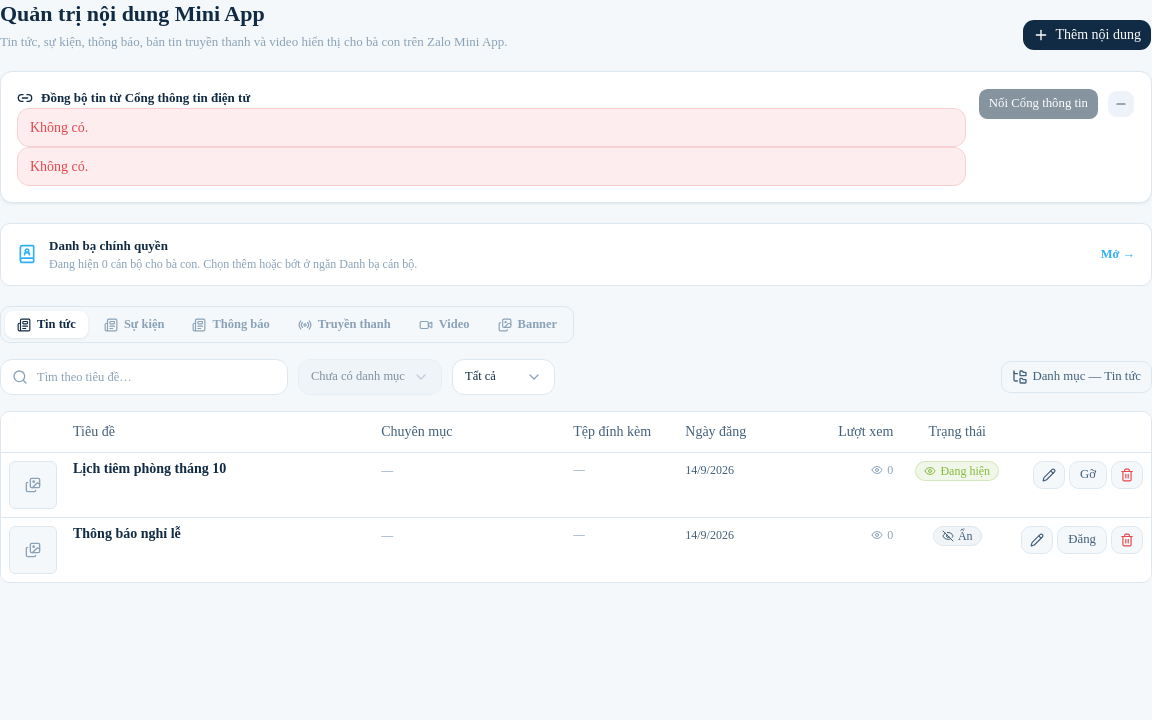
Test: Danh mục — <loại>: the prototype's `CategoryManagerDialog`, one tree per type › ~44rem wide, a plain title and ONE sentence, the import box, the add row, then the list
Step 1. Click the button "Danh mục — Tin tức" → (1077, 377), box [1001,361,1151,393]
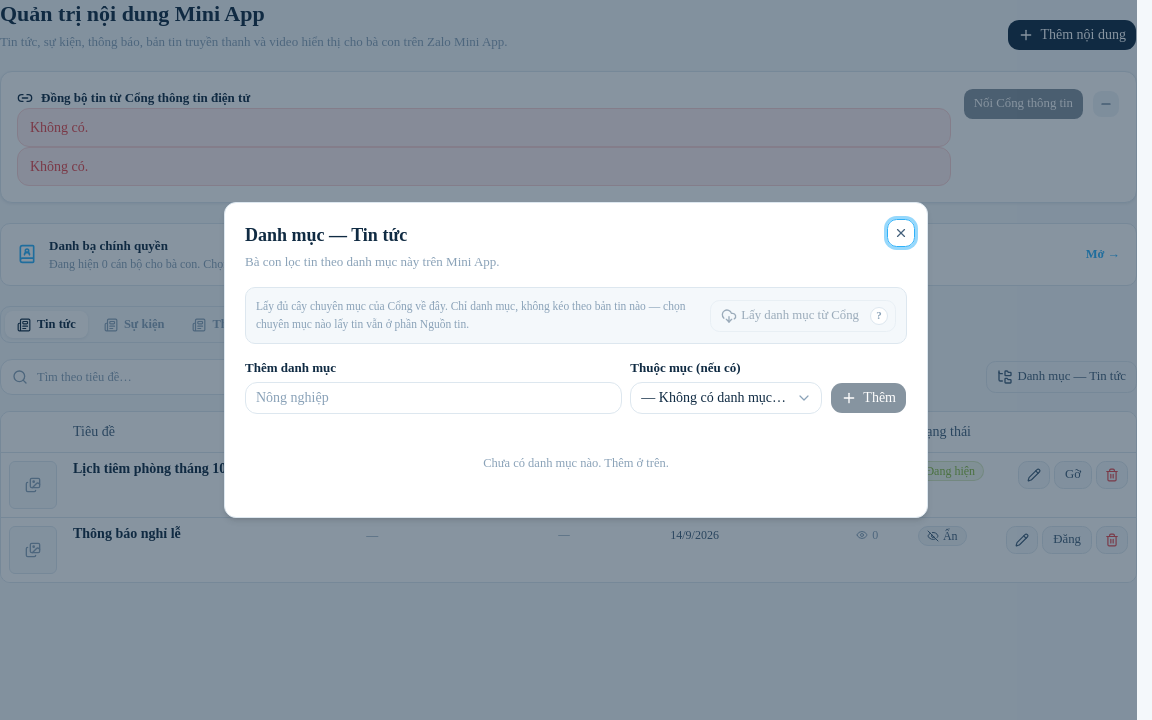
Now the heading "Danh mục — Tin tức" is shown, box [245,225,407,245]
Now the dialog shows "Bà con lọc tin theo danh mục này trên Mini App.", box [245,254,500,269]
Now the text "Bà con lọc tin theo danh mục này trên Mini App." is shown, box [245,254,500,269]
